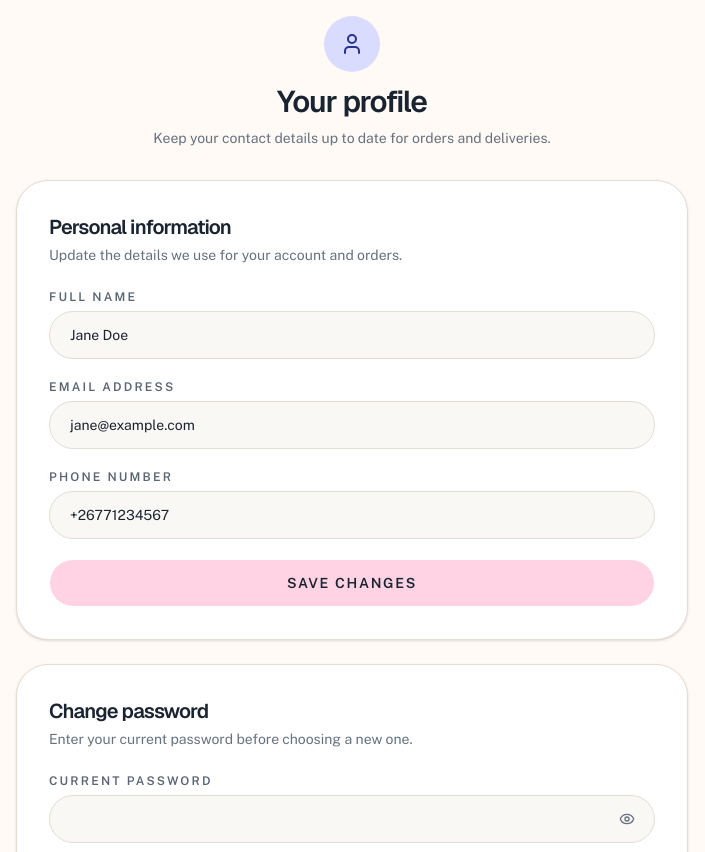
Test: Profile page › loads and updates customer personal information
Expected: the field labelled "Email address" holds "jane@example.com", x1=49 y1=401 x2=655 y2=449
Step 1. Replace the text in the field labelled "Full name" with "Jane Baker" → point(352, 335), box x1=49 y1=311 x2=655 y2=359
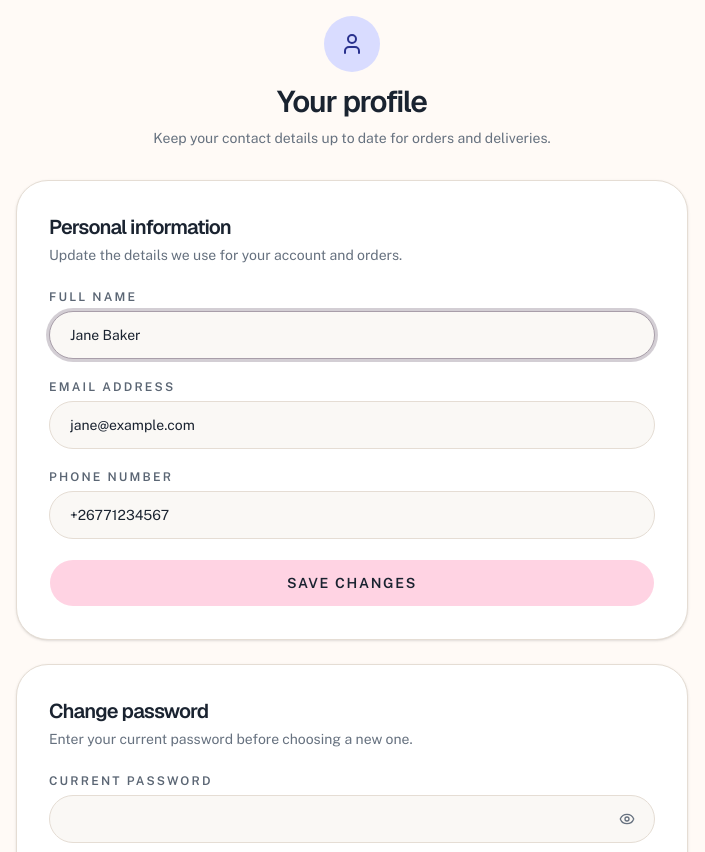
Step 2. Replace the text in the field labelled "Email address" with "jane.baker@example.com" → point(352, 425), box x1=49 y1=401 x2=655 y2=449
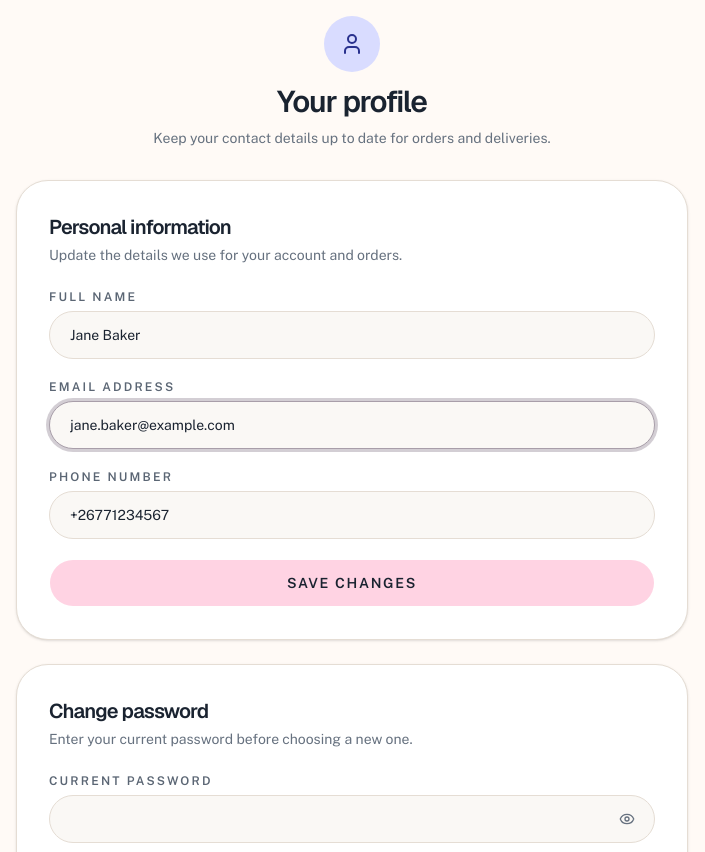
Step 3. Click the button "Save changes" → point(352, 583), box x1=49 y1=559 x2=655 y2=607
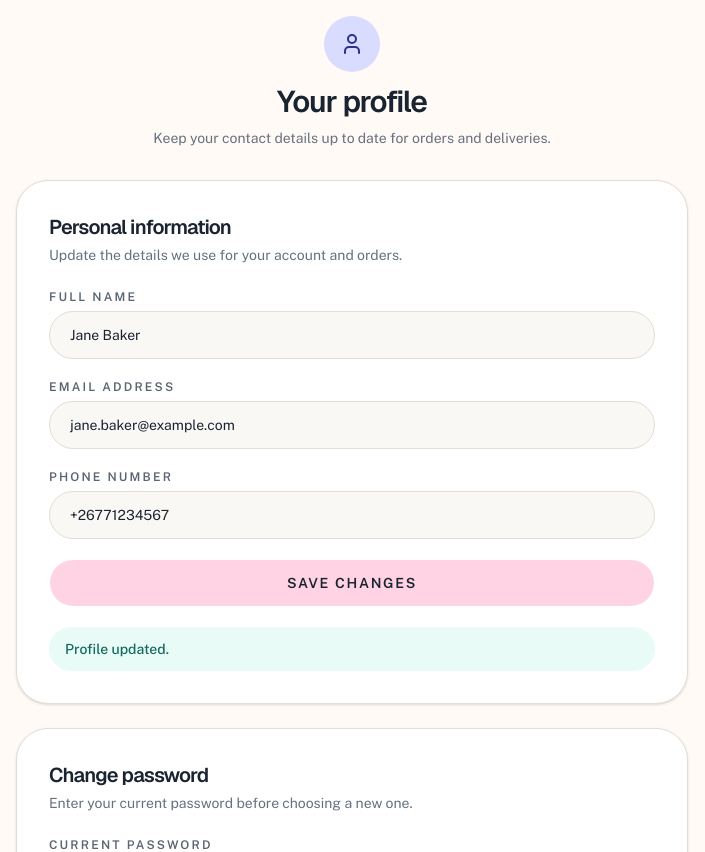
Now the message reads "Profile updated.", box x1=65 y1=641 x2=169 y2=657
